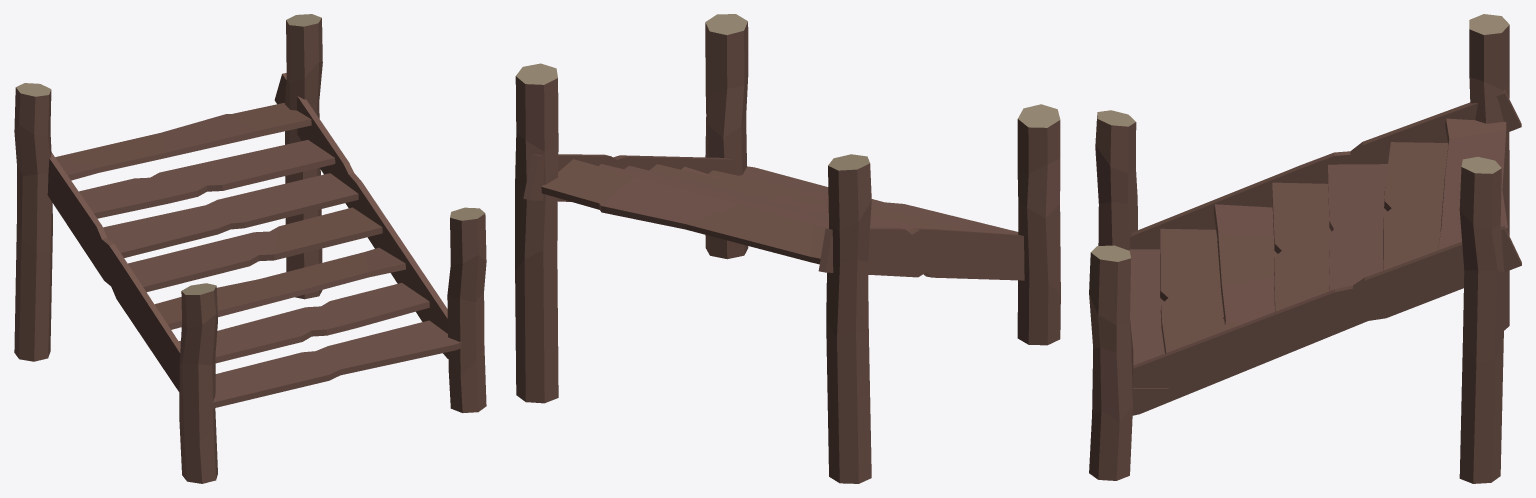
File: Dock Stairs.glb
3 renders of one model, left to right at view 1: azimuth 30°, elevation 25°; view 2: azimuth 150°, elevation 25°; view 3: azimuth 270°, elevation 25°, orthographic. The views are drawn at different scales.
Parts seen in each view (by area): view 1: Dock_Stairs; view 2: Dock_Stairs; view 3: Dock_Stairs.
Boxes of the visible parts, bbox=[...] form: Dock_Stairs: bbox=[14, 14, 486, 483]; Dock_Stairs: bbox=[515, 14, 1060, 483]; Dock_Stairs: bbox=[1089, 14, 1521, 483].
Bounding box in the file's own units: 8.7 × 7.63 × 9.47.
